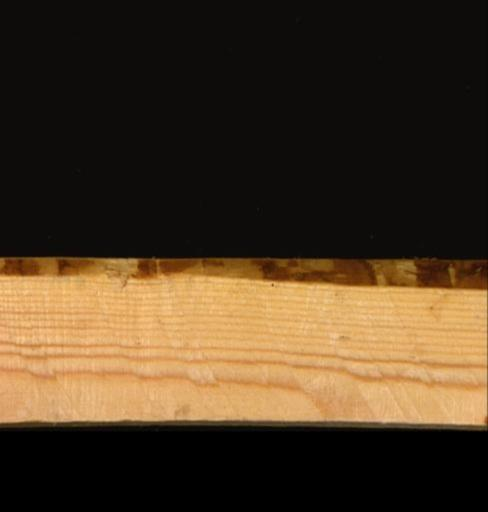wave: (0, 257, 486, 290)
